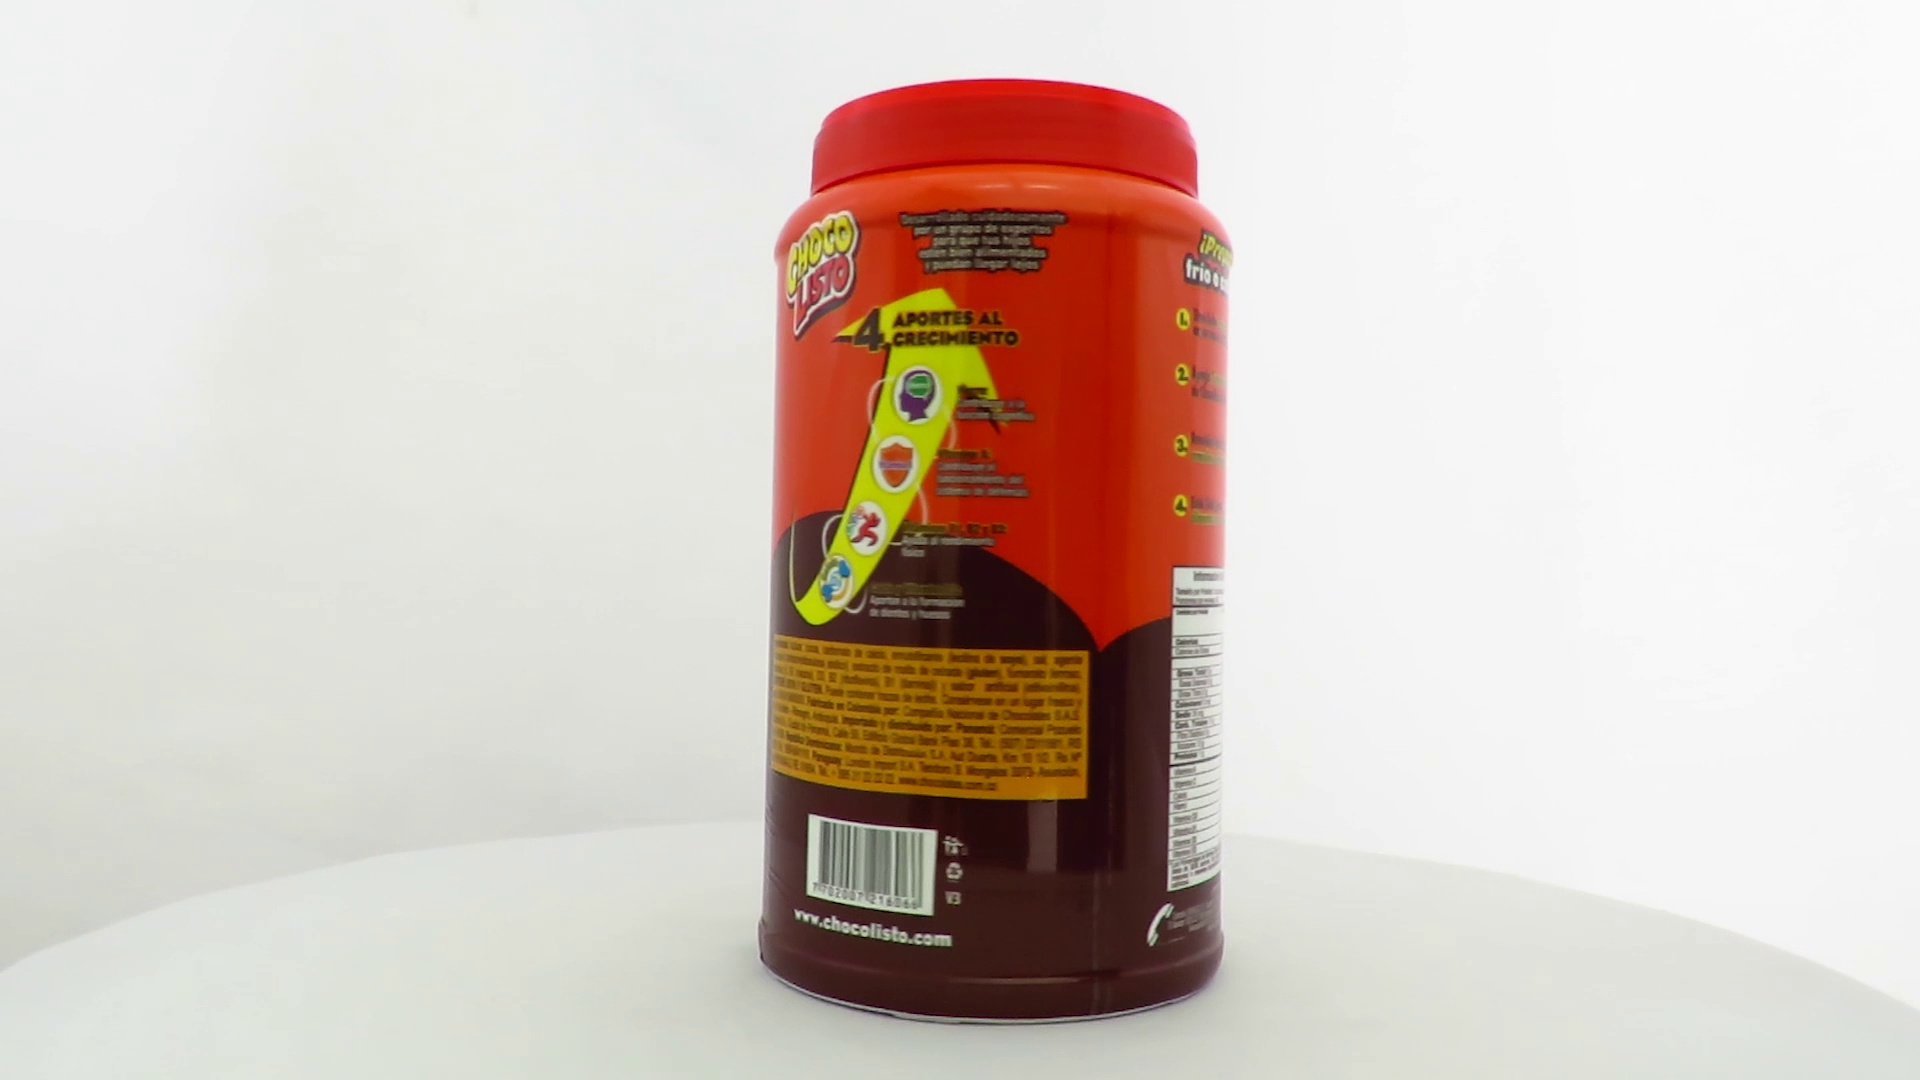COL0170103TRR00100: (753, 73, 1237, 1033)
